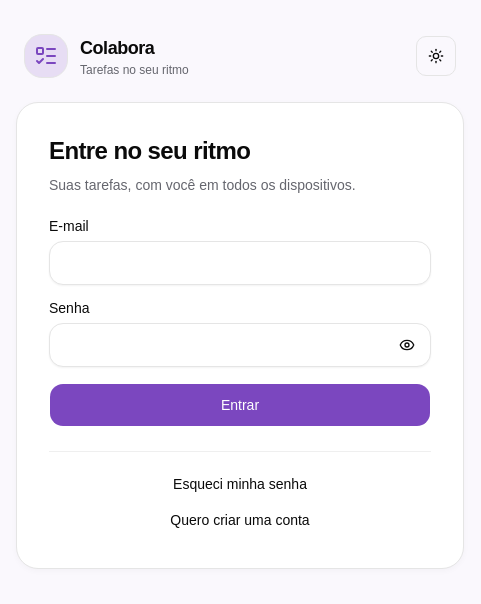
Test: validates login fields before sending data
Click the button "Entrar".
click(240, 404)  # box [49,382,431,426]
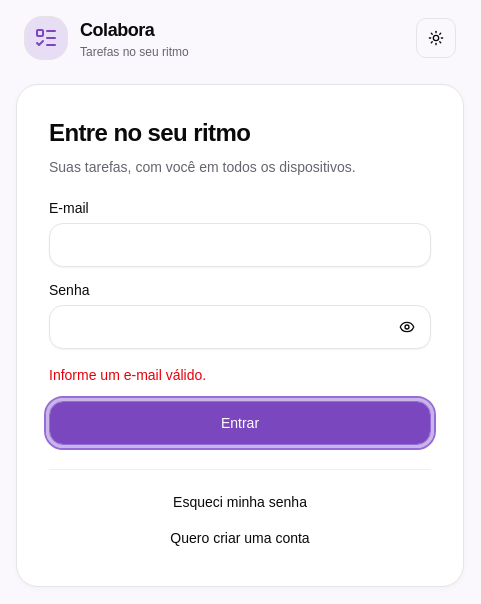
Check: the message shows "e-mail válido", box [49,366,206,382]
